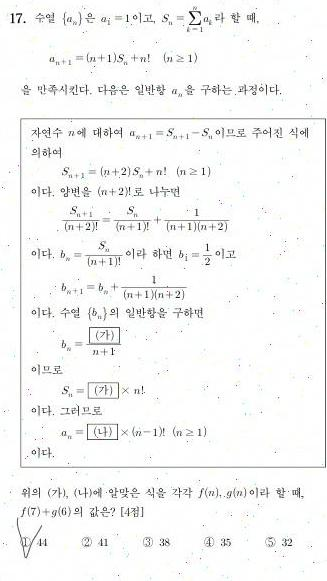choice: (15, 528, 33, 559)
not-choice: (201, 534, 216, 549), (263, 534, 277, 549), (79, 534, 92, 548), (141, 535, 154, 548)
